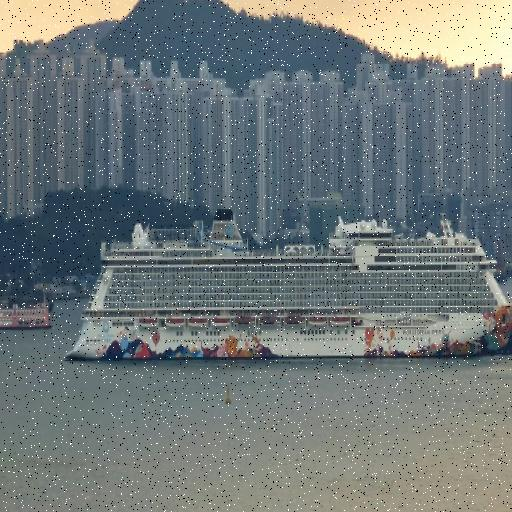cruises: (64, 202, 512, 375)
